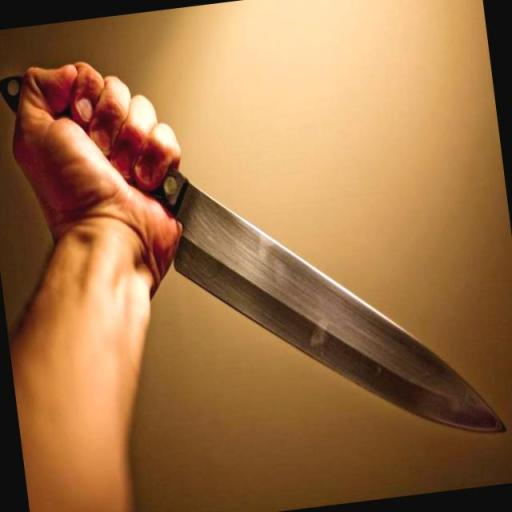knife: (71, 2, 512, 484)
